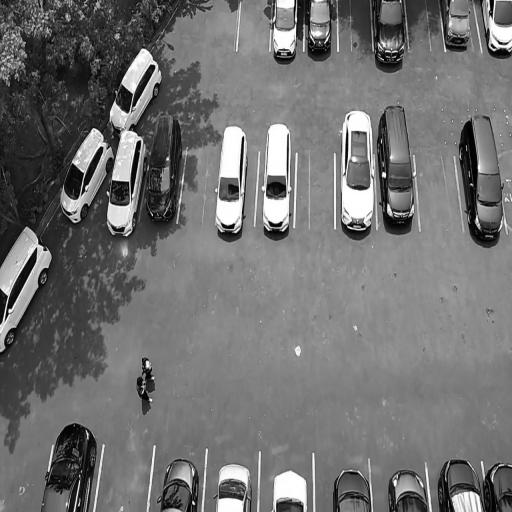Car: (0, 218, 56, 366), (453, 105, 509, 253), (50, 117, 117, 233), (100, 39, 166, 140), (38, 418, 101, 512), (374, 98, 416, 238), (101, 126, 151, 242), (338, 100, 378, 244), (259, 118, 294, 244), (214, 114, 248, 240), (146, 112, 182, 226), (436, 456, 483, 512), (370, 0, 407, 69), (158, 458, 200, 512), (481, 0, 512, 70), (386, 463, 430, 512), (331, 462, 373, 512), (214, 462, 254, 512), (304, 0, 334, 66), (272, 0, 302, 64), (442, 0, 471, 59), (482, 457, 512, 512), (272, 469, 310, 512)
Space Available: (93, 439, 155, 512), (414, 153, 463, 232), (178, 143, 220, 222), (296, 152, 334, 229), (405, 0, 446, 51), (235, 0, 273, 53), (337, 0, 374, 53), (499, 164, 512, 235)
